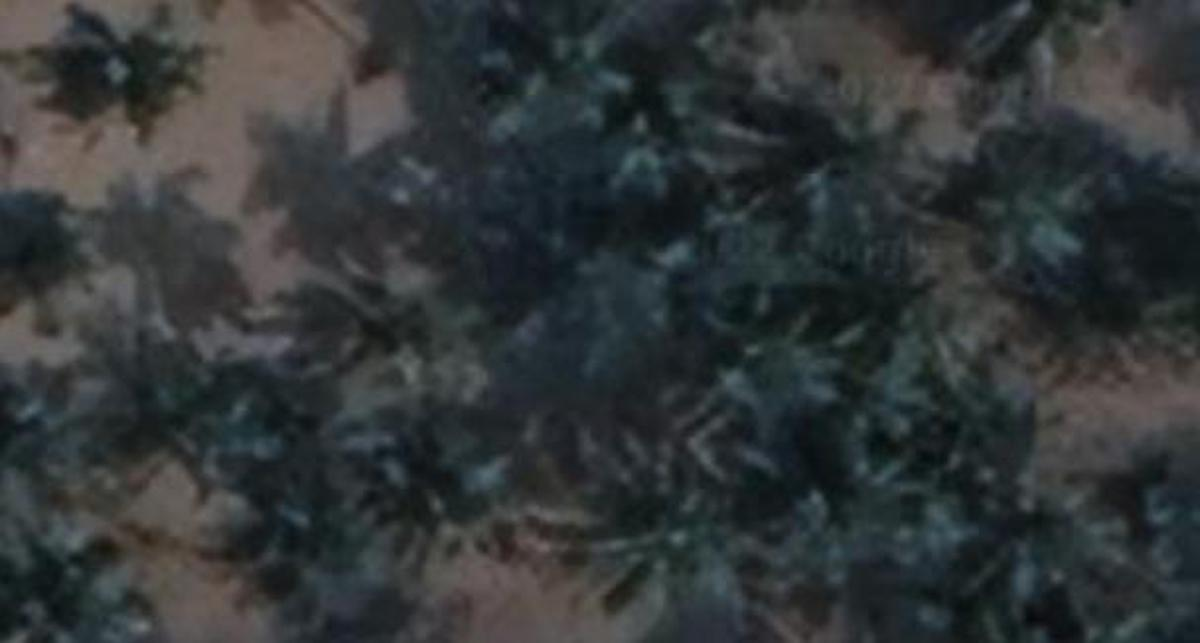coconut: (570, 455, 748, 623), (775, 92, 941, 262), (461, 0, 643, 155), (769, 433, 933, 591), (680, 284, 842, 443), (86, 331, 234, 500), (943, 473, 1101, 621), (943, 132, 1107, 274), (582, 69, 738, 214), (266, 256, 434, 390), (53, 0, 213, 136), (809, 325, 955, 457), (378, 428, 509, 560), (223, 439, 363, 562), (1069, 522, 1200, 643), (0, 520, 128, 643), (0, 364, 120, 489)
